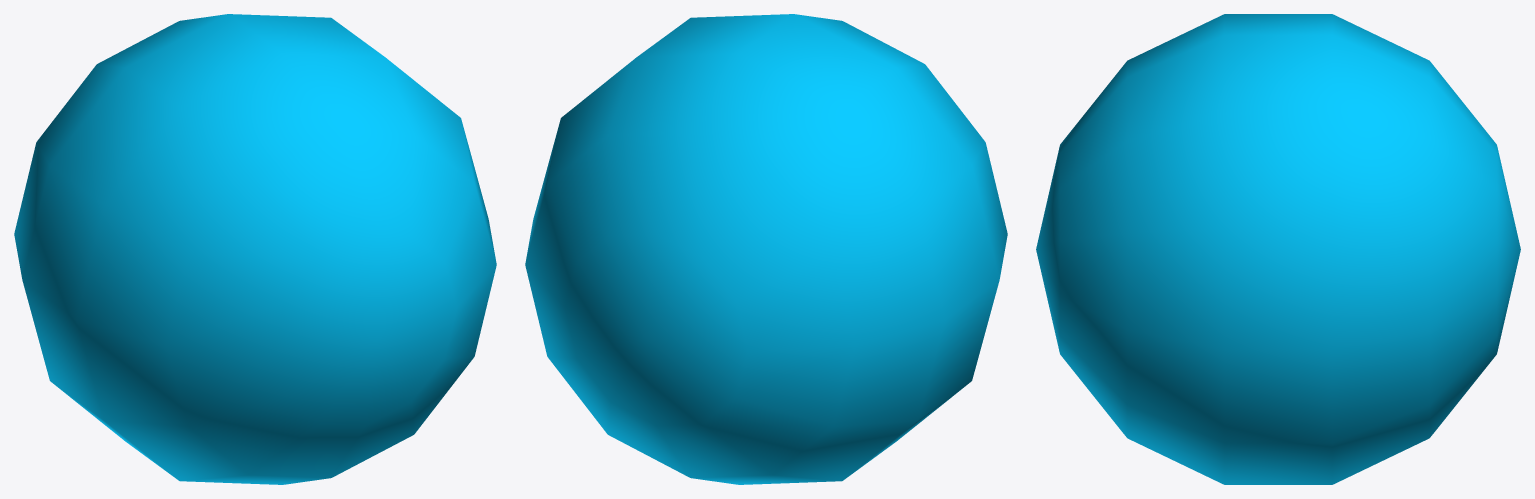
The model's file is JunctionInterfaceMarker.obj.
The picture shows the model from 3 angles, left to right: view 1: azimuth 30°, elevation 25°; view 2: azimuth 150°, elevation 25°; view 3: azimuth 270°, elevation 25°; orthographic projection.
Parts seen in each view (by area): view 1: JunctionInterfaceMarker; view 2: JunctionInterfaceMarker; view 3: JunctionInterfaceMarker.
Boxes of the visible parts, left/top/right/bottom form: JunctionInterfaceMarker: left=14, top=14, right=496, bottom=484; JunctionInterfaceMarker: left=525, top=14, right=1007, bottom=484; JunctionInterfaceMarker: left=1036, top=14, right=1520, bottom=484.
Bounding box in the file's own units: 0.0292 × 0.0292 × 0.03.
